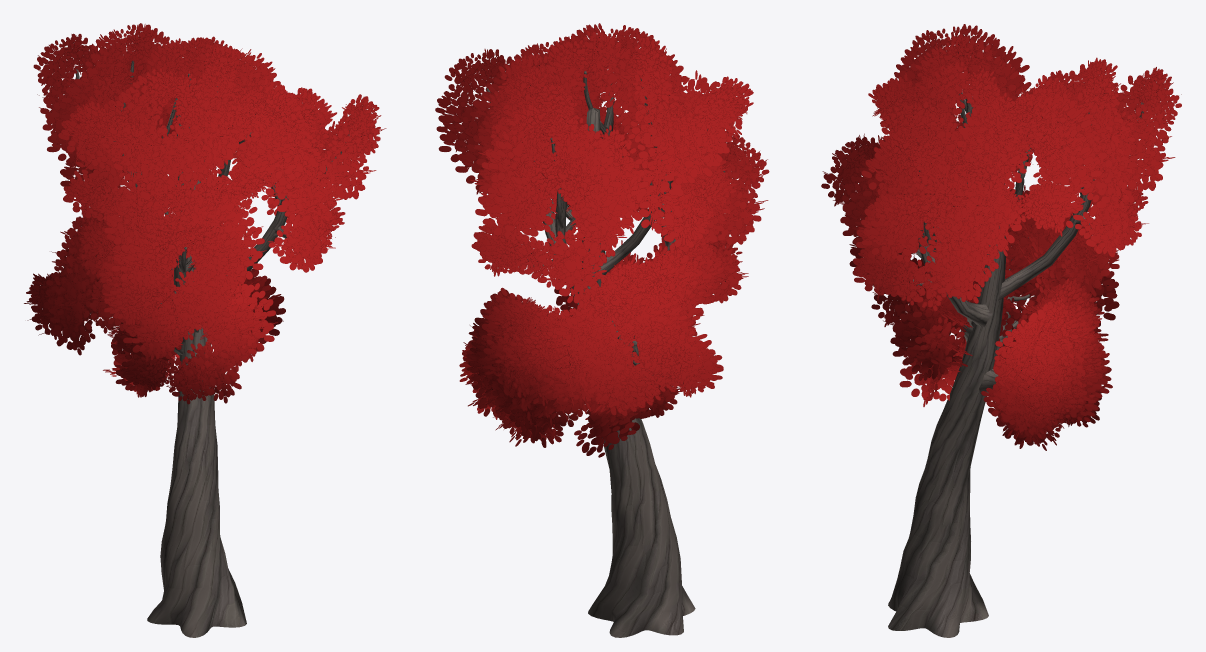
Rendered from twisted_tree_5.gltf.
The picture shows the model from 3 angles, left to right: view 1: azimuth 30°, elevation 25°; view 2: azimuth 150°, elevation 25°; view 3: azimuth 270°, elevation 25°; orthographic projection. The views are drawn at different scales.
Visible parts, largest first — view 1: twisted_tree_5; view 2: twisted_tree_5; view 3: twisted_tree_5.
Part boxes in pixels (x1,y1,x2,y2): twisted_tree_5: (24,23,386,637); twisted_tree_5: (435,23,769,637); twisted_tree_5: (821,24,1181,637).
Size of the model in its own units: 9.49 by 15.66 by 9.39.
Materials: 2 (2 with a texture image).
